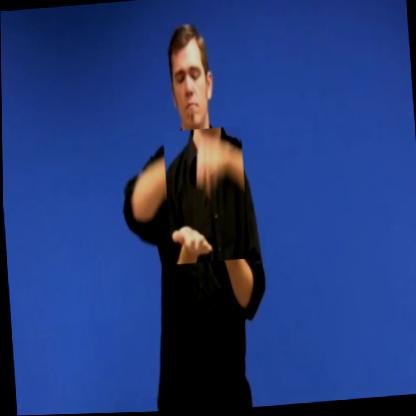Expensive: (162, 127, 248, 266)
